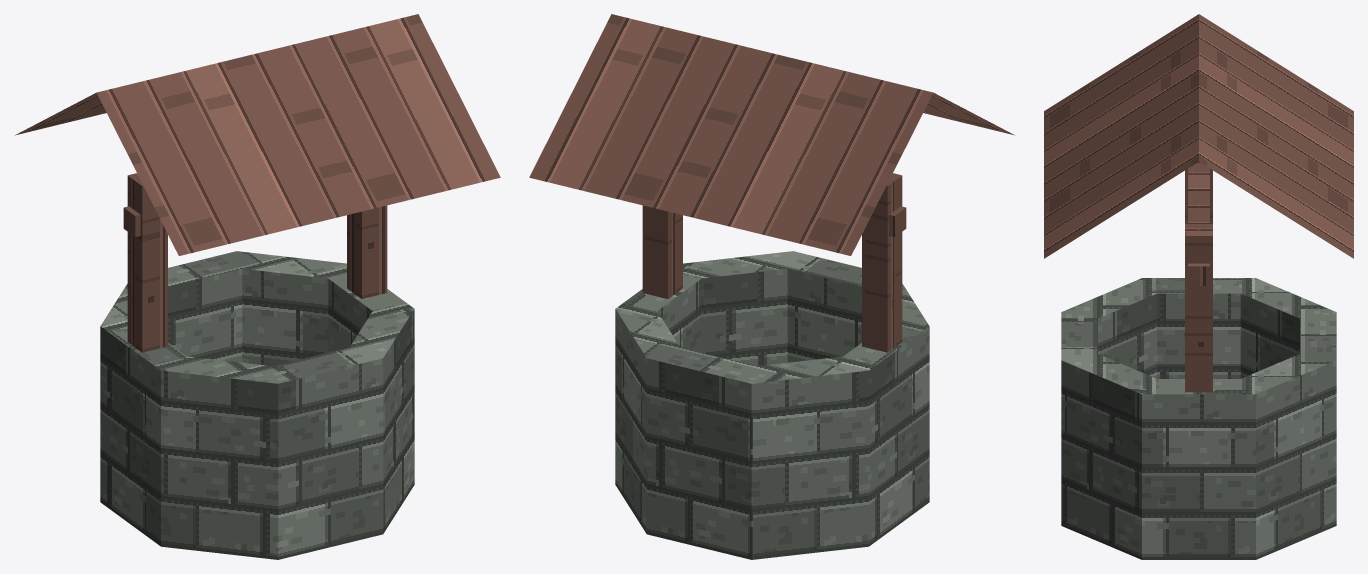
Rendered from well.glb.
3 renders of one model, left to right at view 1: azimuth 30°, elevation 25°; view 2: azimuth 150°, elevation 25°; view 3: azimuth 270°, elevation 25°, orthographic. The views are drawn at different scales.
Visible parts, largest first — view 1: well; view 2: well; view 3: well.
Part boxes in pixels (x1,y1,x2,y2): well: [15, 14, 500, 559]; well: [529, 14, 1014, 559]; well: [1044, 14, 1353, 559].
Size of the model in its own units: 1.76 by 2.3 by 1.56.
3 materials, 3 textured.
